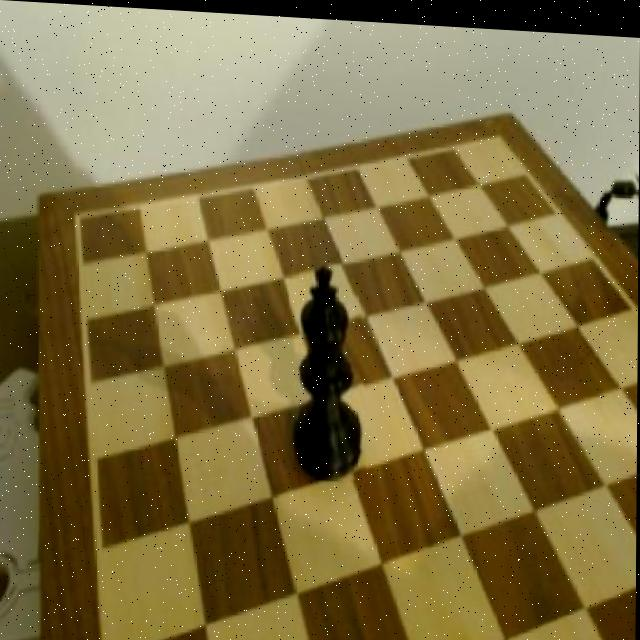black-bishop: (290, 258, 368, 478)
